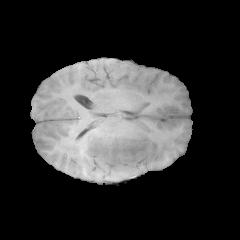glioma: (65, 126, 152, 168)
